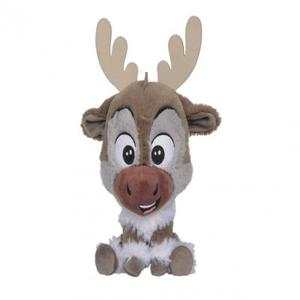sven: (82, 10, 242, 103)
